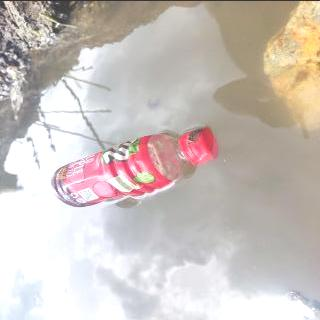bottle: (47, 122, 220, 209)
